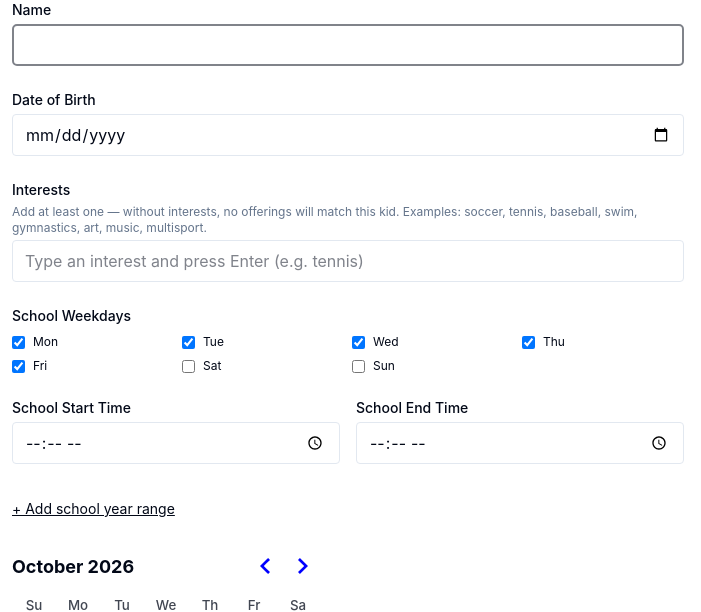
KidForm › displays server error in ErrorBanner on 500 response
The width and height of the screenshot is (701, 612).
Step 1. Type "Alex" into the field labelled "Name" → [348, 45], box [12,24,684,66]
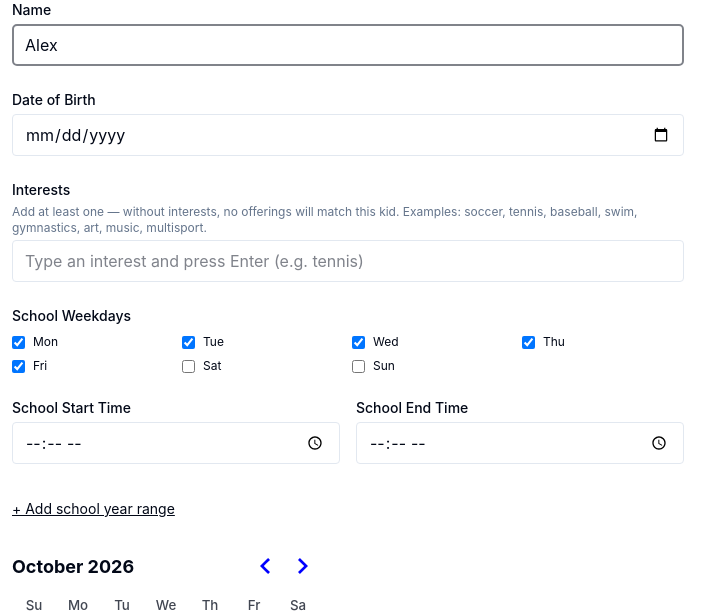
Step 2. Type "2020-01-01" into the date field labelled "Date of Birth" → [348, 135], box [12,114,684,156]
(page scrolled)
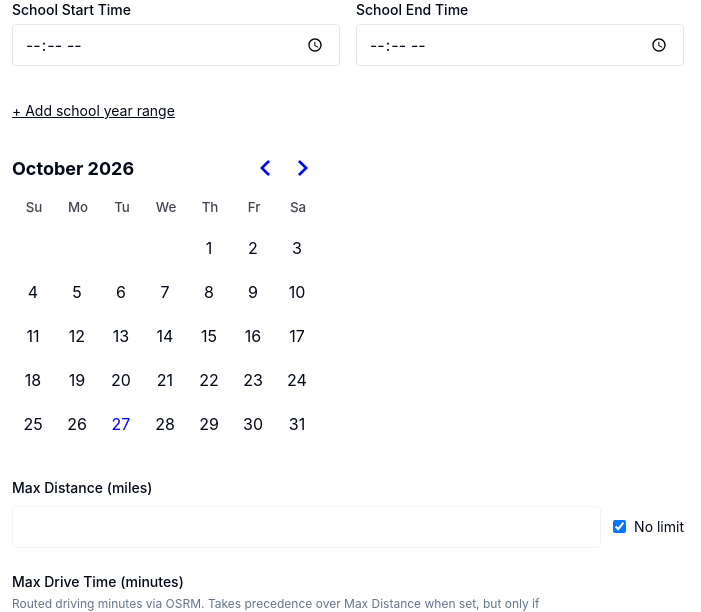
Step 3. Submit the form
(page scrolled)
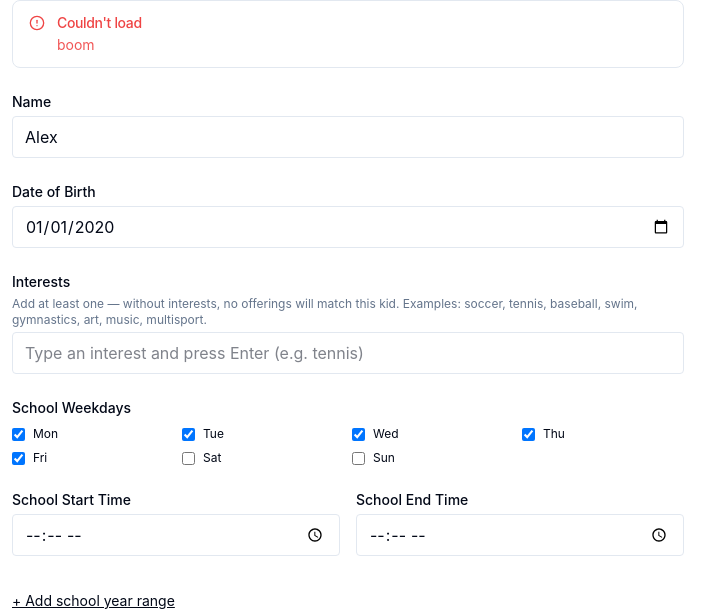
Expected: the text "boom" is shown, [57,35,95,55]
